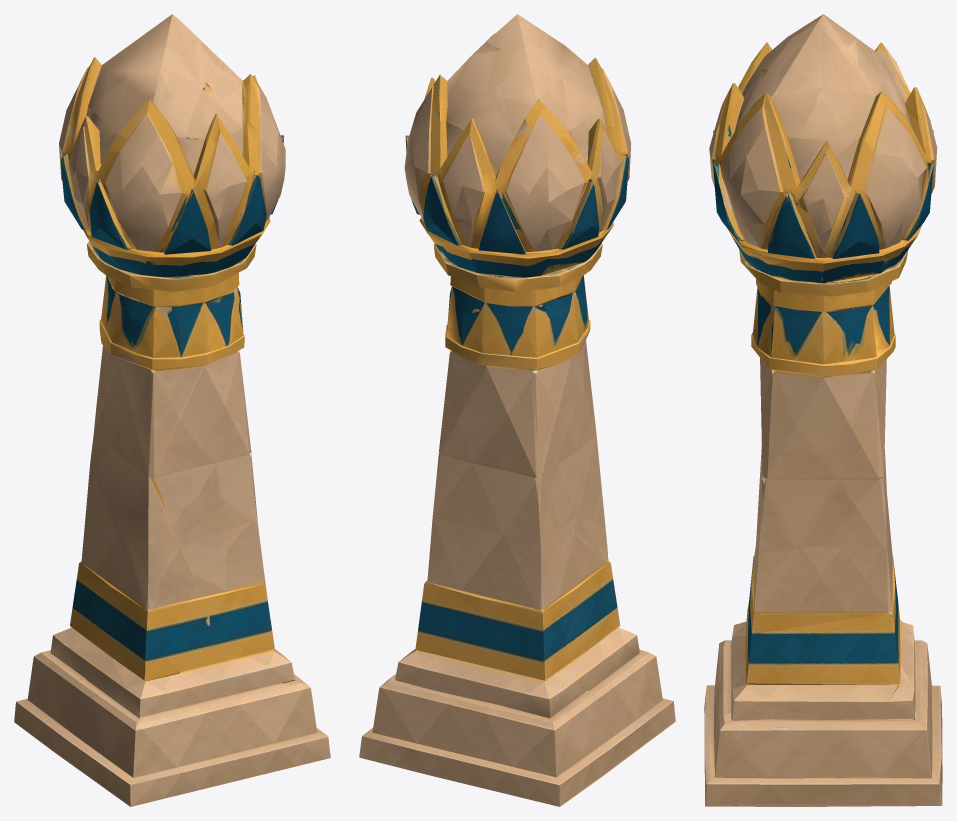
File: palace-pillar.glb
The picture shows the model from 3 angles, left to right: view 1: azimuth 30°, elevation 25°; view 2: azimuth 150°, elevation 25°; view 3: azimuth 270°, elevation 25°; orthographic projection. The views are drawn at different scales.
Size of the model in its own units: 0.5519 by 1.9 by 0.5521.
1 material, 1 textured.
